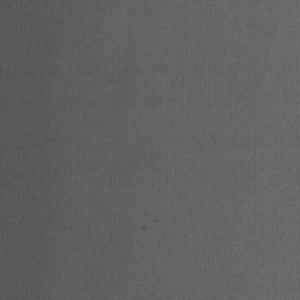Damage: (134, 216, 168, 236)
